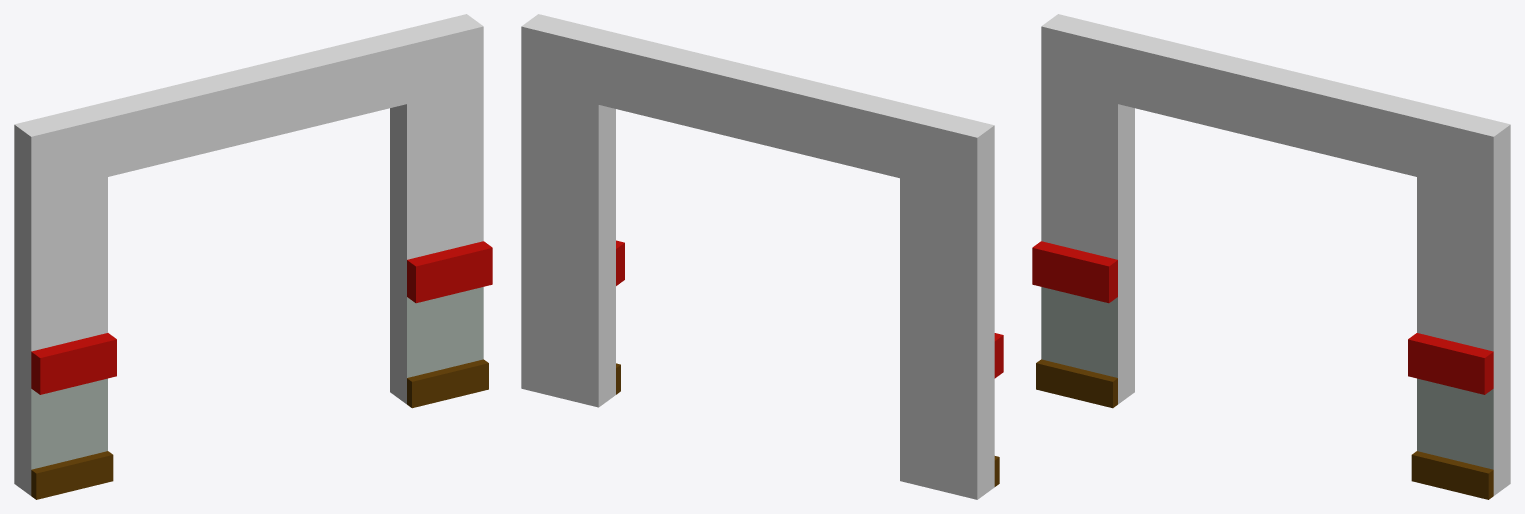
File: H_Wall_Doors_Reception.fbx
3 renders of one model, left to right at view 1: azimuth 30°, elevation 25°; view 2: azimuth 150°, elevation 25°; view 3: azimuth 330°, elevation 25°, orthographic.
Parts seen in each view (by area): view 1: H_Wall_Doors_Reception; view 2: H_Wall_Doors_Reception; view 3: H_Wall_Doors_Reception.
Boxes of the visible parts, bbox=[...] form: H_Wall_Doors_Reception: bbox=[14, 14, 492, 499]; H_Wall_Doors_Reception: bbox=[521, 14, 1003, 499]; H_Wall_Doors_Reception: bbox=[1032, 14, 1510, 499].
Size of the model in its own units: 2000 by 199 by 1517.
